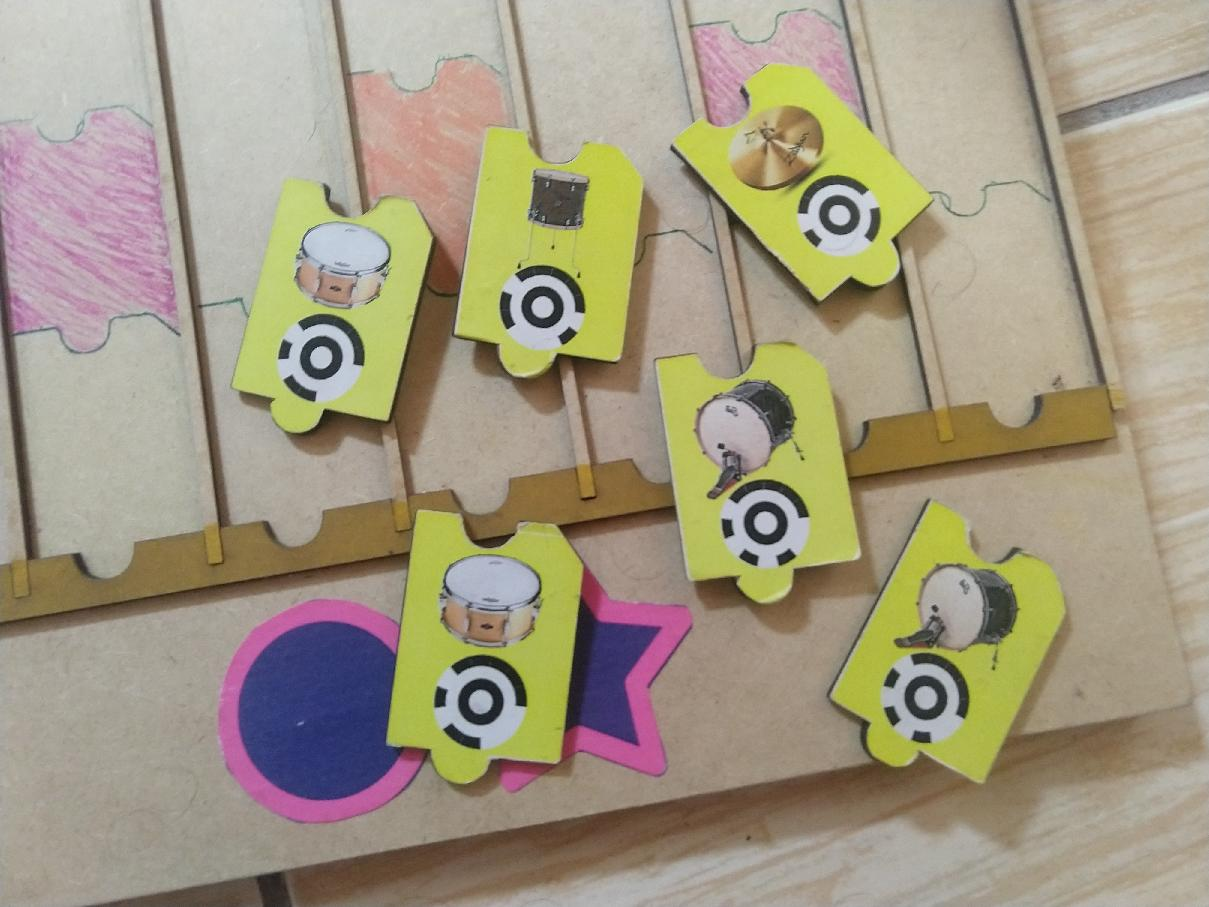bumbo: (827, 498, 1071, 791), (651, 338, 864, 607)
